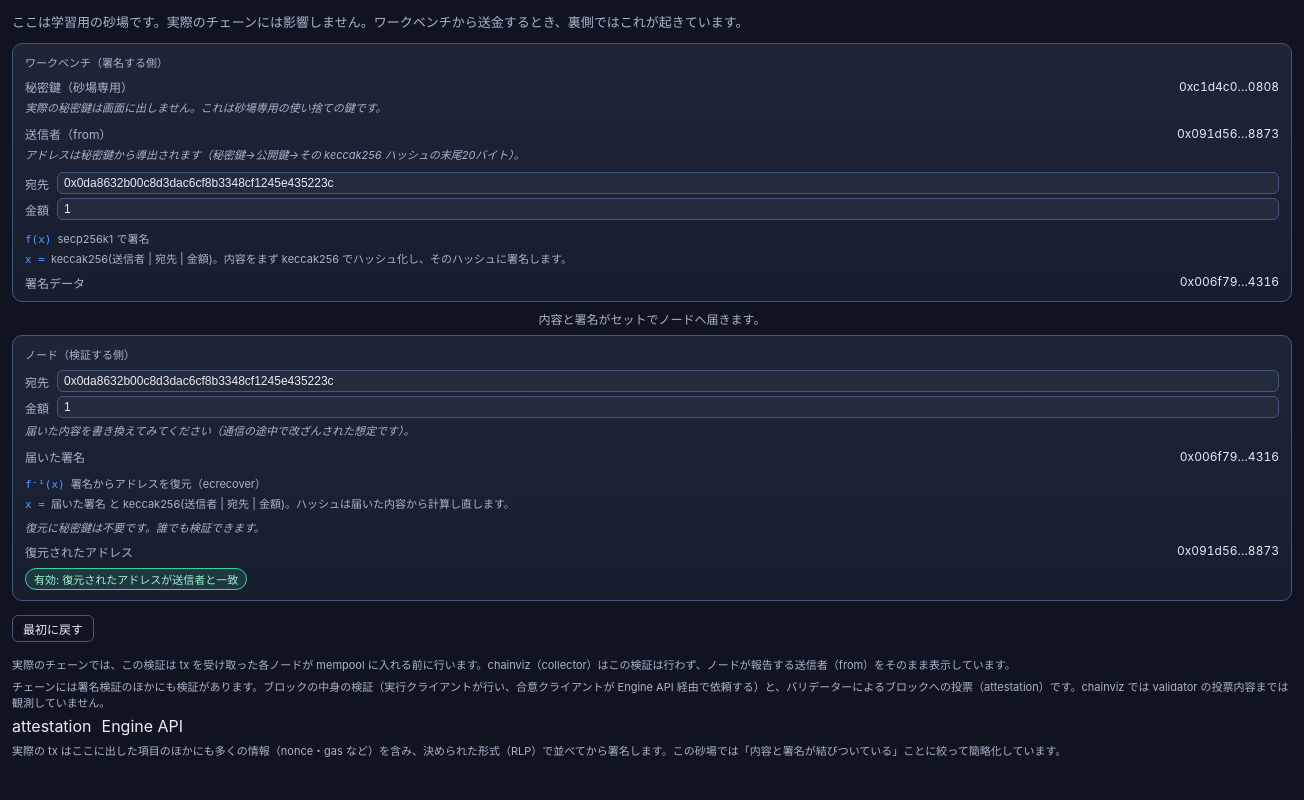
Test case: SignatureDemoView: the result message clears once the user acts again › hides the attacker result message after editing the workbench again
The image size is (1304, 800).
Replace the text in the field with test id "signature-demo-received-amount" with "999" at (668, 407), box left=57, top=396, right=1279, bottom=418
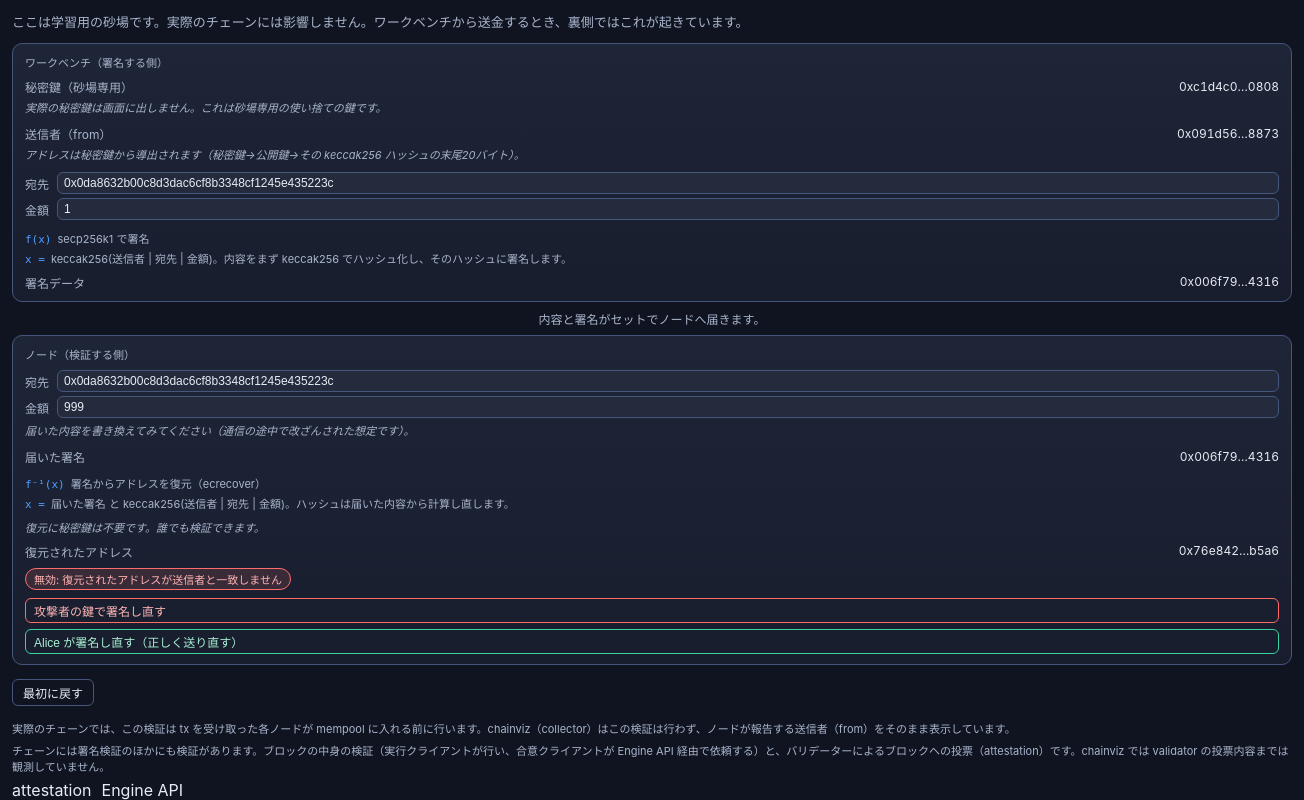
Click the button with test id "signature-demo-resign-attacker".
click(100, 612)  # box left=25, top=598, right=1279, bottom=623
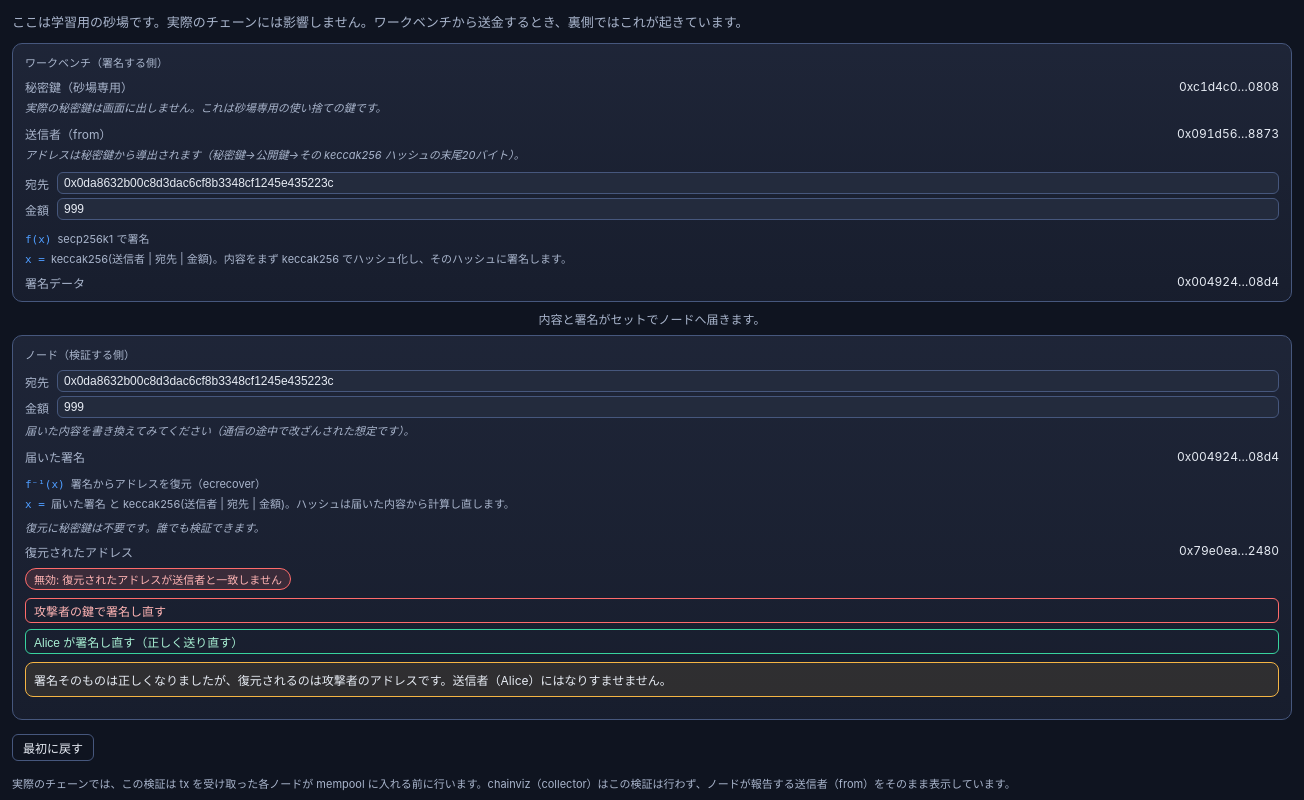
Check: the text "署名そのものは正しくなりましたが、復元されるのは攻撃者のアドレスです。送信者（Alice）にはなりすませません。" is shown, box left=25, top=662, right=1279, bottom=697
Replace the text in the field with test id "signature-demo-workbench-amount" with "5" at (668, 209), box left=57, top=198, right=1279, bottom=220
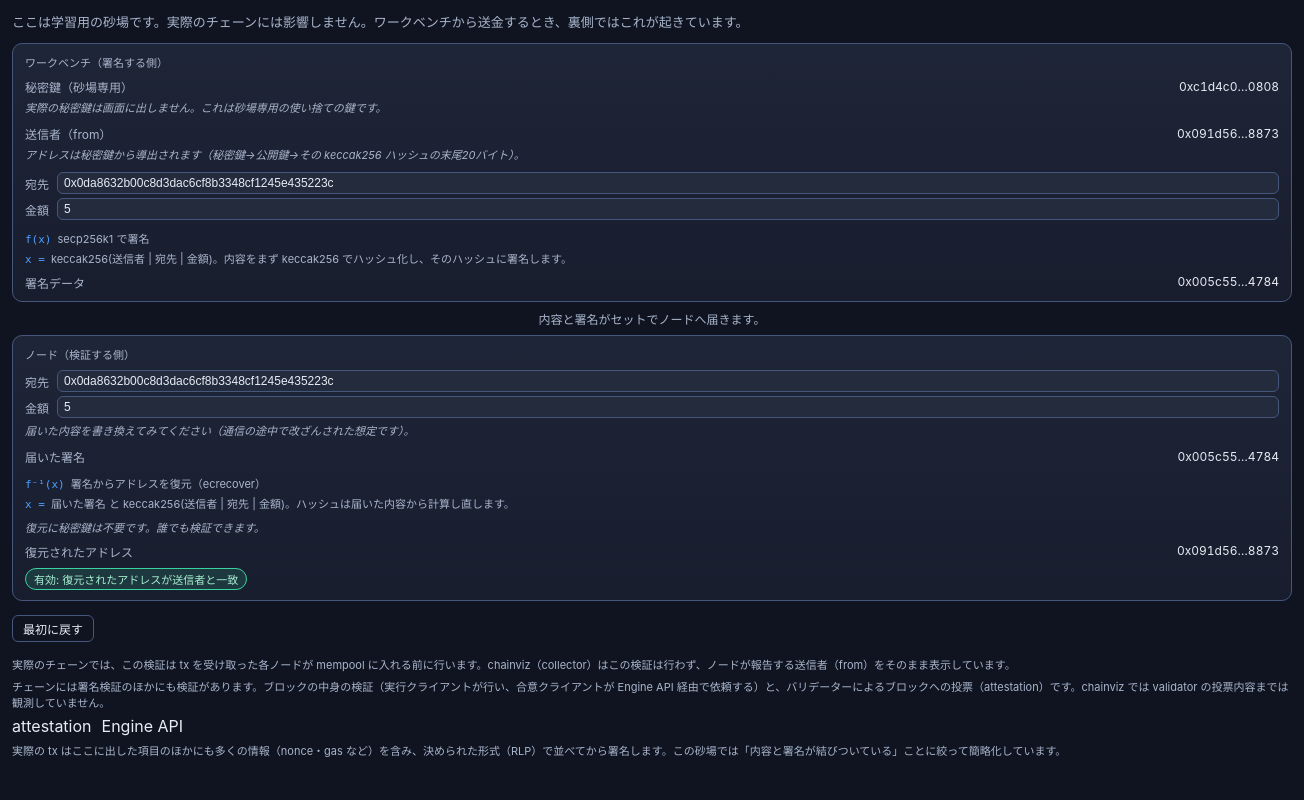
Check: the text with test id "signature-demo-result-attacker" is gone
